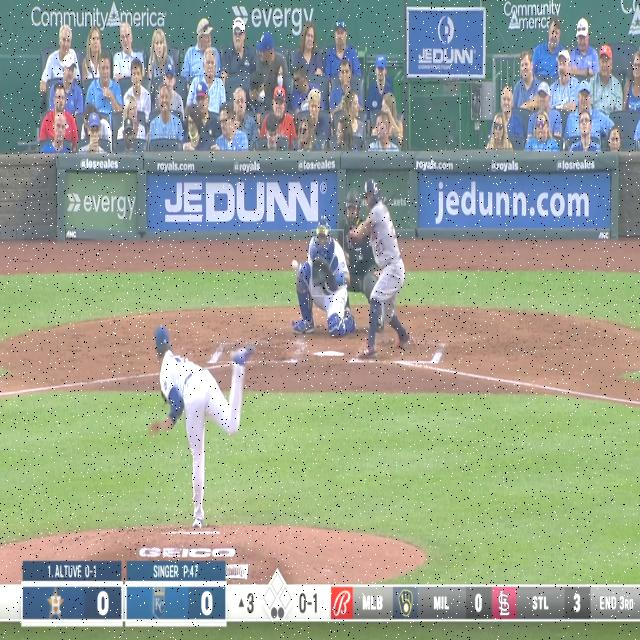baseball: (292, 259, 298, 271)
